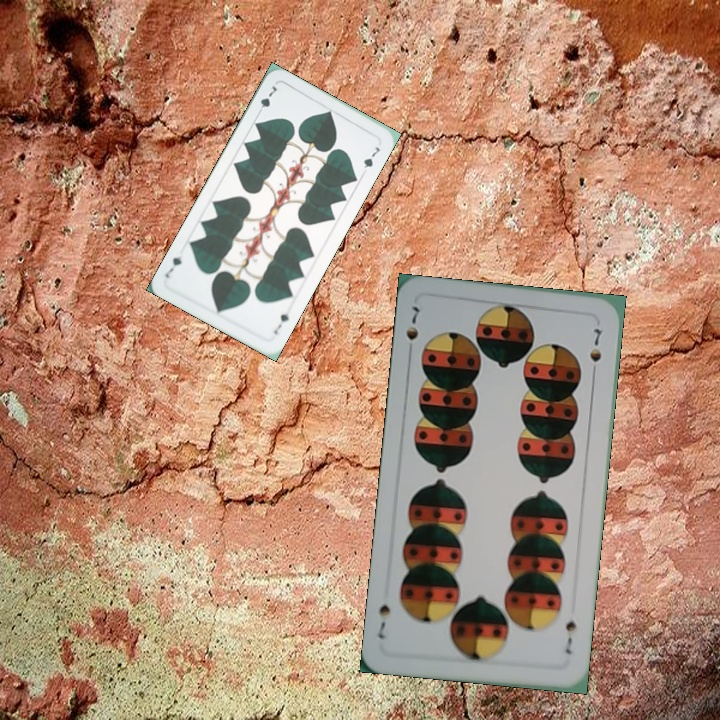G7: (254, 82, 279, 118), (270, 309, 291, 337)
S7: (402, 302, 421, 359), (561, 613, 579, 657)
